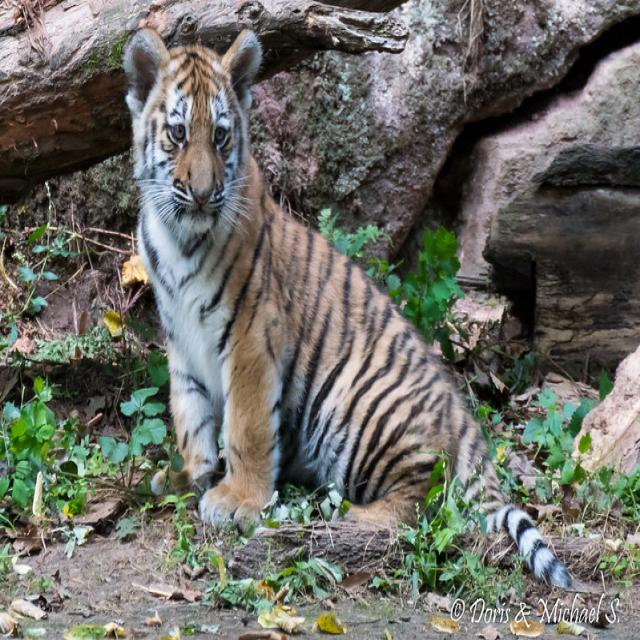Tiger: (112, 19, 545, 558)
